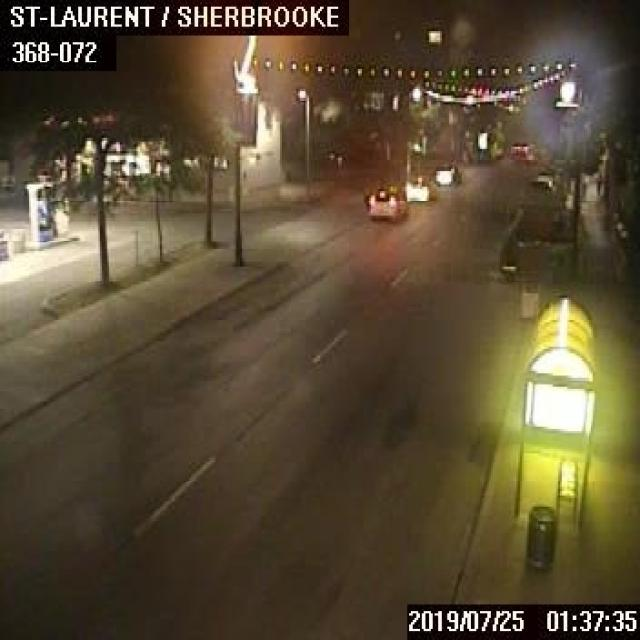vehicle: (366, 184, 406, 218), (404, 174, 435, 199), (434, 161, 456, 184)
